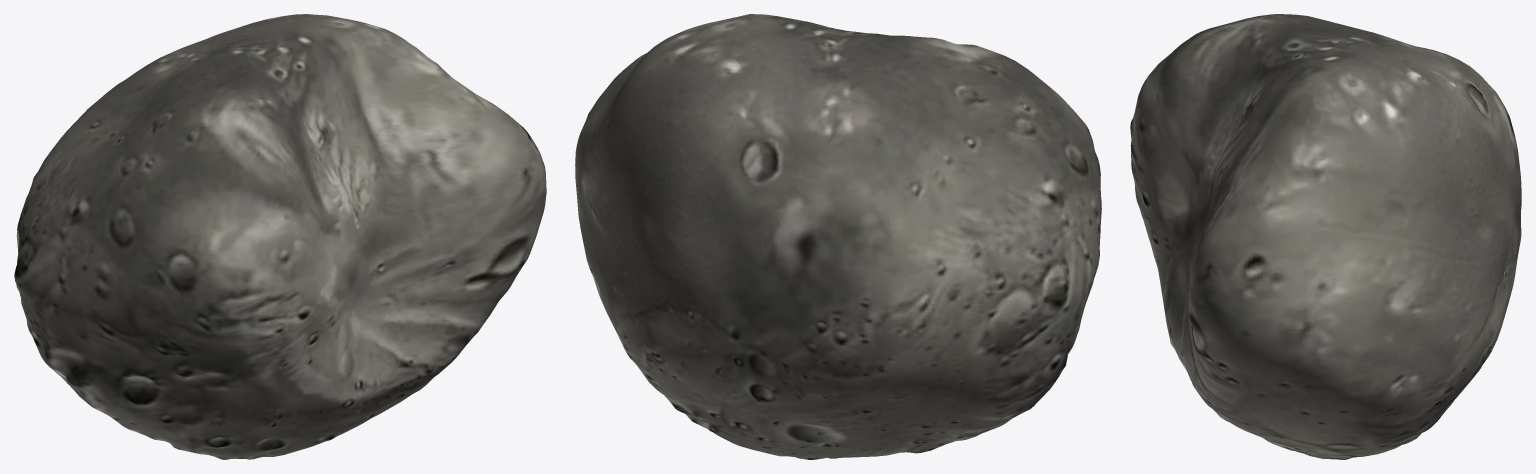
Rendered from deimos.glb.
3 renders of one model, left to right at view 1: azimuth 30°, elevation 25°; view 2: azimuth 150°, elevation 25°; view 3: azimuth 270°, elevation 25°, orthographic. The views are drawn at different scales.
Visible parts, largest first — view 1: deimos; view 2: deimos; view 3: deimos.
Boxes of the visible parts, x1,y1,x2,y2 form: deimos: (14, 14, 546, 459); deimos: (575, 14, 1101, 459); deimos: (1130, 14, 1521, 459).
Size of the model in its own units: 15.01 by 11.86 by 10.51.
Materials: 1 (1 with a texture image).
